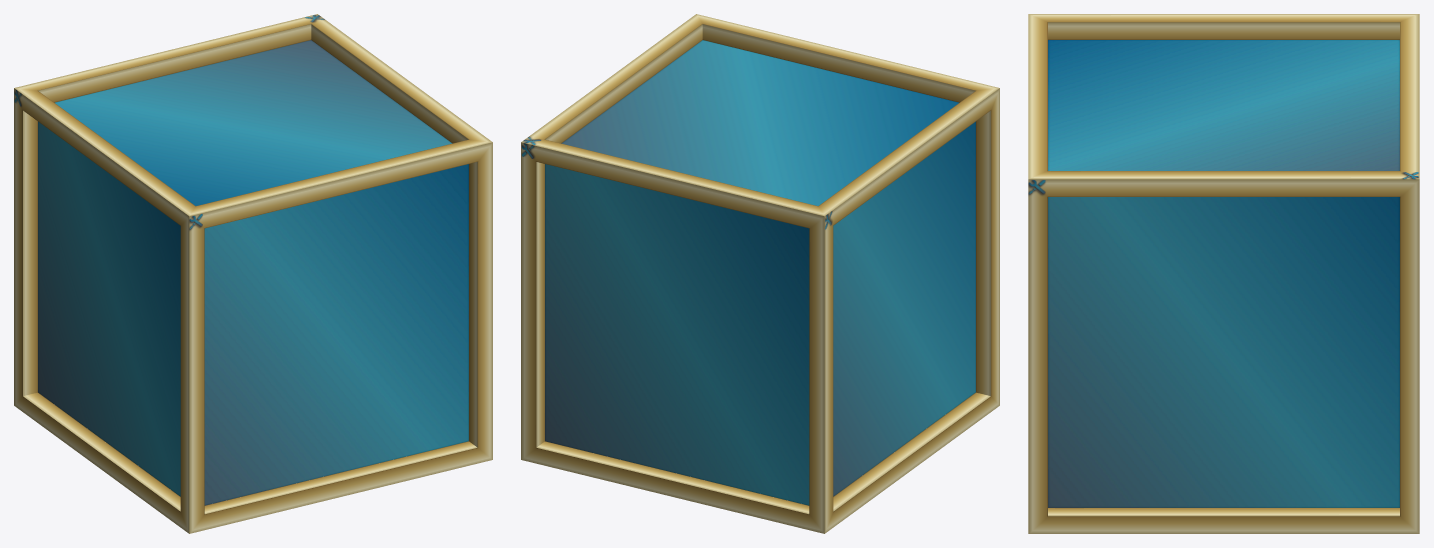
The model's file is item_interface.obj.
The picture shows the model from 3 angles, left to right: view 1: azimuth 30°, elevation 25°; view 2: azimuth 150°, elevation 25°; view 3: azimuth 270°, elevation 25°; orthographic projection. The views are drawn at different scales.
Parts seen in each view (by area): view 1: cube.001, cube; view 2: cube.001, cube; view 3: cube.001, cube.
Part boxes in pixels (x1,y1,x2,y2): cube.001: (38, 40, 468, 505); cube: (14, 14, 492, 533); cube.001: (545, 40, 975, 505); cube: (521, 14, 999, 533); cube.001: (1048, 40, 1399, 507); cube: (1028, 14, 1419, 533).
Bounding box in the file's own units: 1 × 1 × 1.
